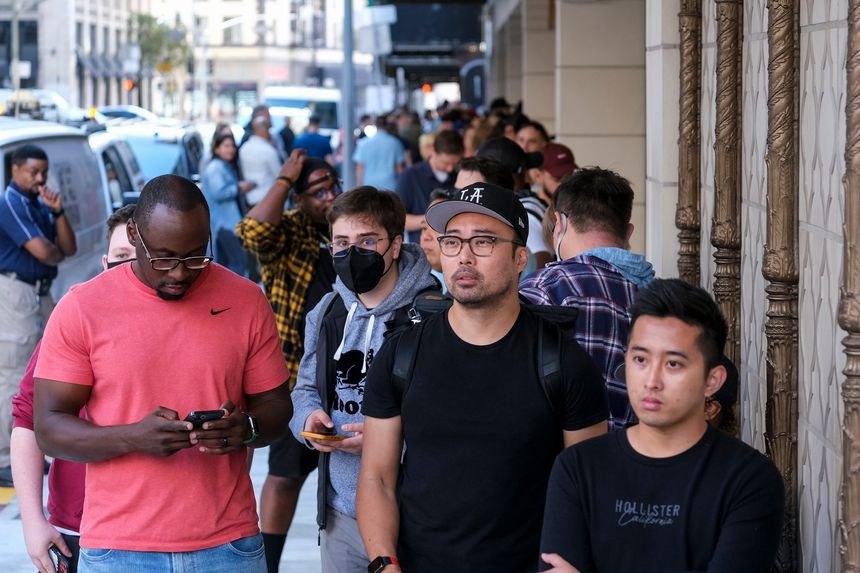with_mask: (330, 221, 389, 293)
without_mask: (628, 328, 702, 423), (441, 221, 511, 306), (143, 222, 207, 305)
